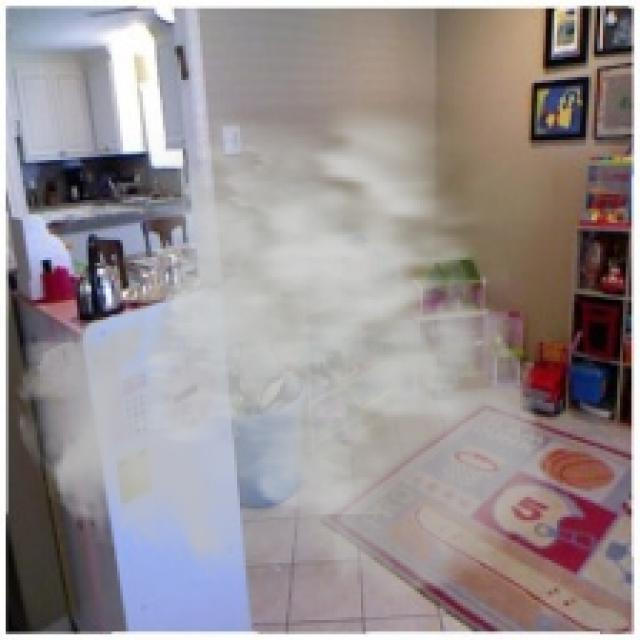smoke: (11, 80, 563, 600)
